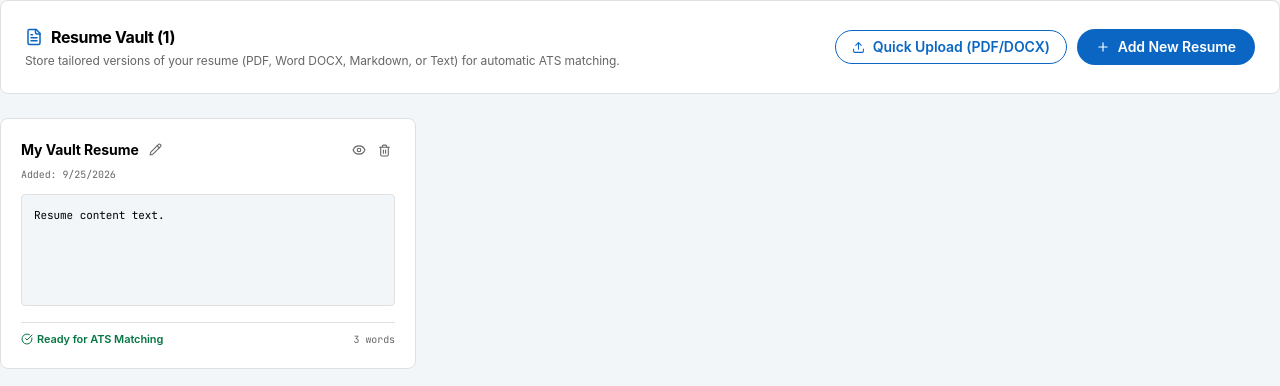
Test: ResumeLibrary text persistence and upload workflows (B2, B3) › renders download button labeled Original uploaded file in Quick View
The image size is (1280, 386).
Expected: the heading "My Vault Resume" is shown, [21,140,139,160]
// Click quick view
What coordinates should you click on to do the following:
click the button titled "Quick View full resume"
I would click on:
 (359, 150)
Its box is [348,139,370,161].
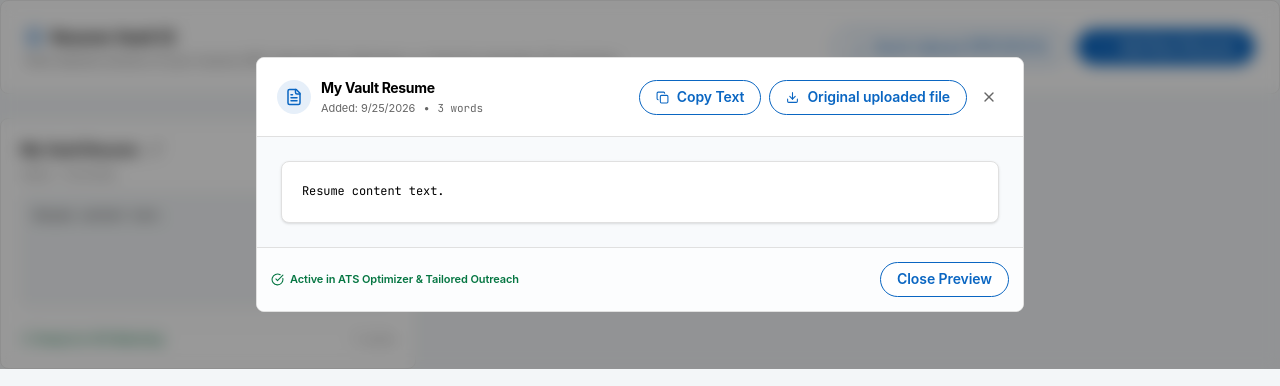
Now the text "Original uploaded file" is shown, box [807,88,950,106]
